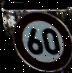Speed Limit -60-: (7, 7, 72, 73)
